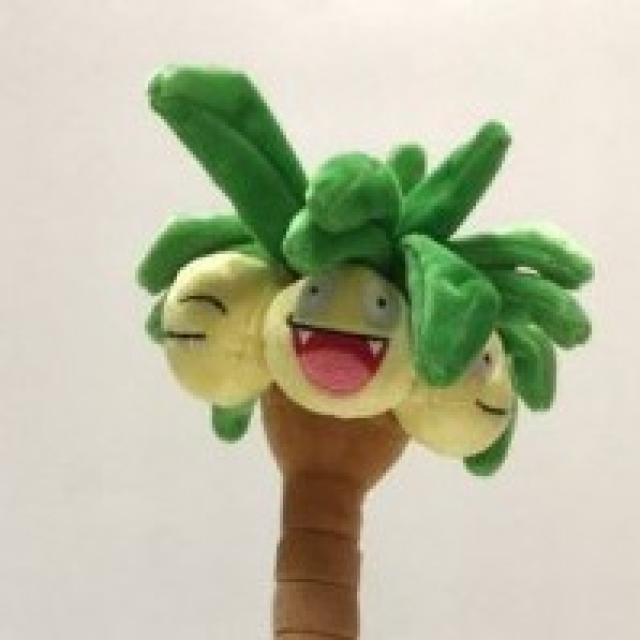Exeggutor: (128, 52, 599, 640)
